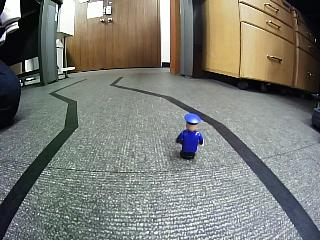person: (175, 113, 204, 160)
